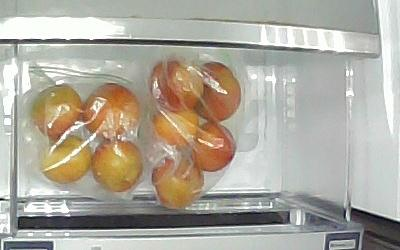prune_vinyl: (81, 84, 138, 141), (191, 62, 241, 123), (32, 84, 82, 141), (90, 139, 143, 191), (153, 154, 204, 207), (148, 61, 202, 109), (41, 135, 92, 185), (147, 107, 200, 152), (190, 122, 236, 172)
